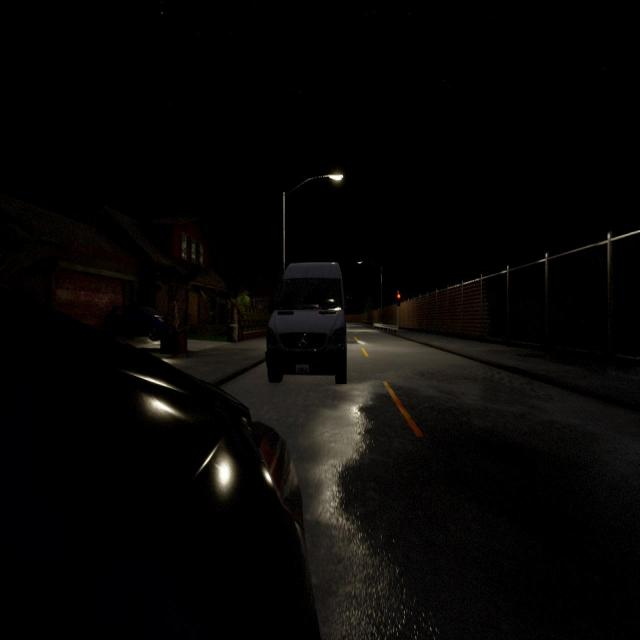Vehicle: (0, 286, 319, 638), (264, 262, 350, 384), (131, 303, 164, 342)
traffic_light: (396, 293, 401, 307)
